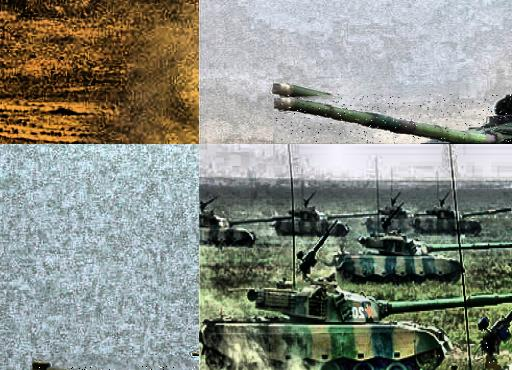tanks: (200, 278, 463, 370), (276, 96, 512, 145), (333, 233, 462, 283), (200, 200, 289, 246), (295, 193, 375, 236), (414, 195, 456, 236), (460, 209, 511, 236), (381, 195, 400, 235), (486, 332, 509, 364), (388, 208, 415, 233), (468, 295, 512, 309), (274, 213, 293, 236), (463, 243, 512, 250), (333, 224, 350, 236), (366, 220, 377, 235), (505, 366, 512, 367)
